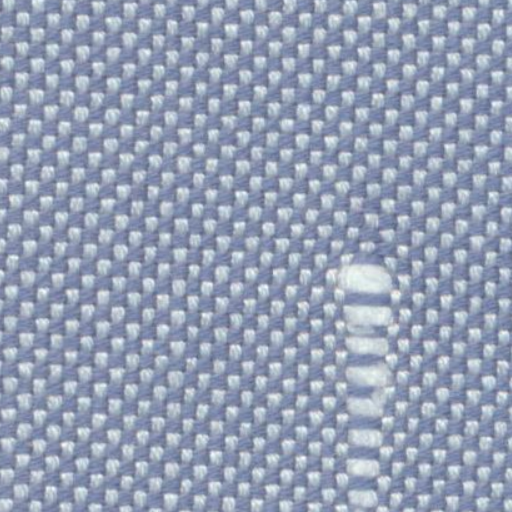DaiSha: (320, 242, 410, 498)
